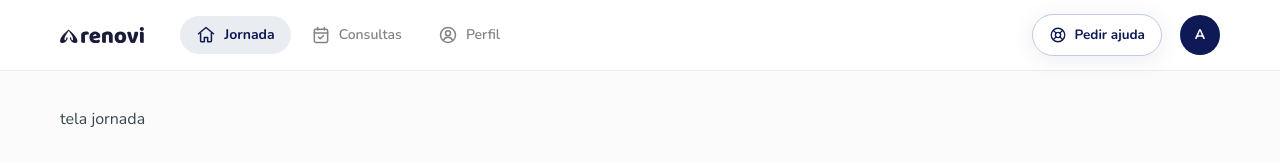
AppLayout › exibe mensagem neutra quando o canal falha
This screenshot has width=1280, height=162.
Click the button "Pedir ajuda" at (1097, 35), box [1032,14,1162,56]
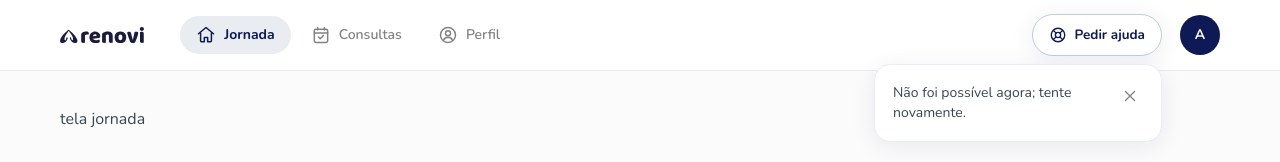
Check: the text "Não foi possível agora; tente novamente." is shown, box [893,83,1071,122]
